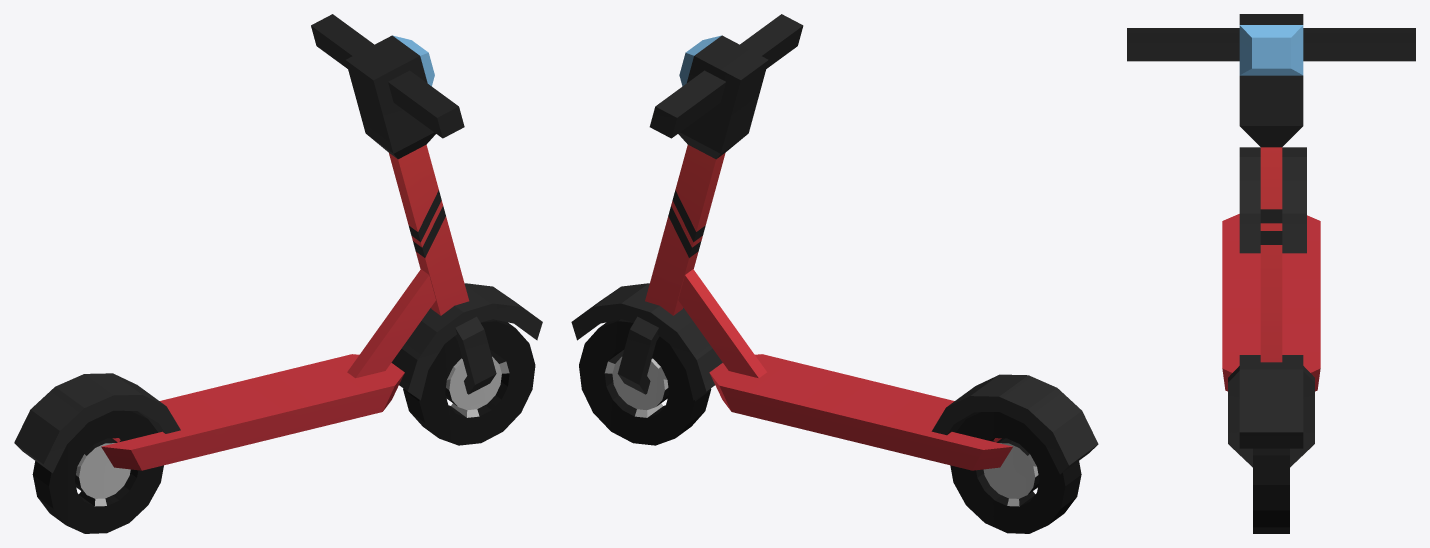
Rendered from Kickboard_01.fbx.
3 views of the same model, side by side, from view 1: azimuth 30°, elevation 25°; view 2: azimuth 150°, elevation 25°; view 3: azimuth 270°, elevation 25° (orthographic). The views are drawn at different scales.
Visible parts, largest first — view 1: KickBoard_Tire_Back, KickBoard_Tire_Front; view 2: KickBoard_Tire_Back, KickBoard_Tire_Front; view 3: KickBoard_Tire_Front, KickBoard_Tire_Back.
Part boxes in pixels (bbox=[...]): KickBoard_Tire_Back: bbox=[14, 269, 435, 533]; KickBoard_Tire_Front: bbox=[311, 14, 542, 445]; KickBoard_Tire_Back: bbox=[678, 269, 1098, 533]; KickBoard_Tire_Front: bbox=[571, 14, 803, 445]; KickBoard_Tire_Front: bbox=[1127, 14, 1415, 533]; KickBoard_Tire_Back: bbox=[1222, 147, 1320, 391].
Size of the model in its own units: 85.49 by 66.74 by 37.47.
